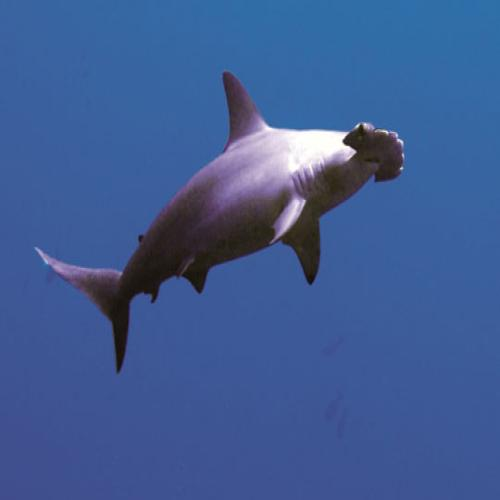shark-endangered: (36, 68, 406, 378)
